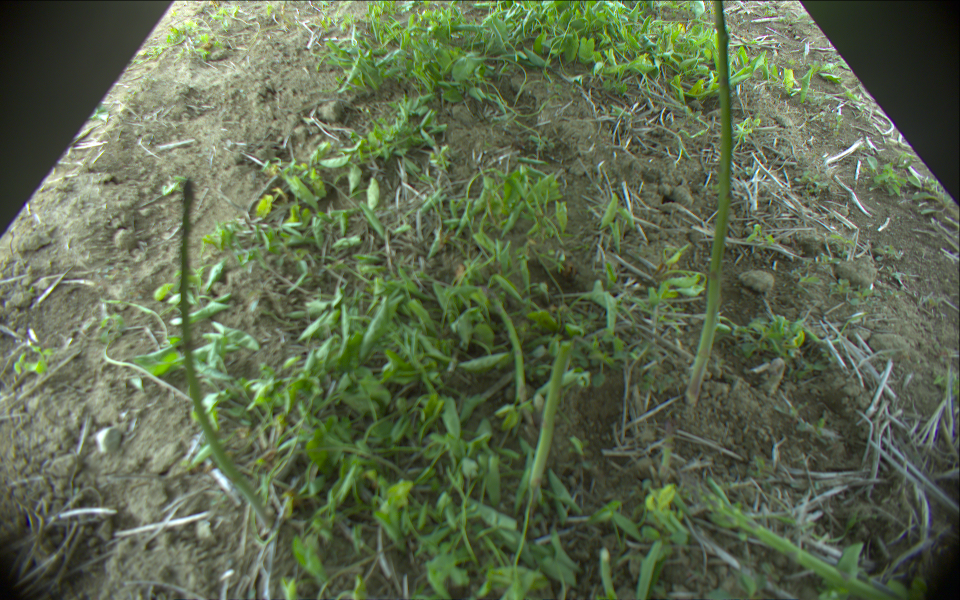aspa: (179, 180, 281, 528), (700, 480, 903, 600), (683, 1, 735, 405), (523, 339, 577, 504), (494, 295, 526, 410), (633, 539, 665, 600), (598, 547, 620, 600)
